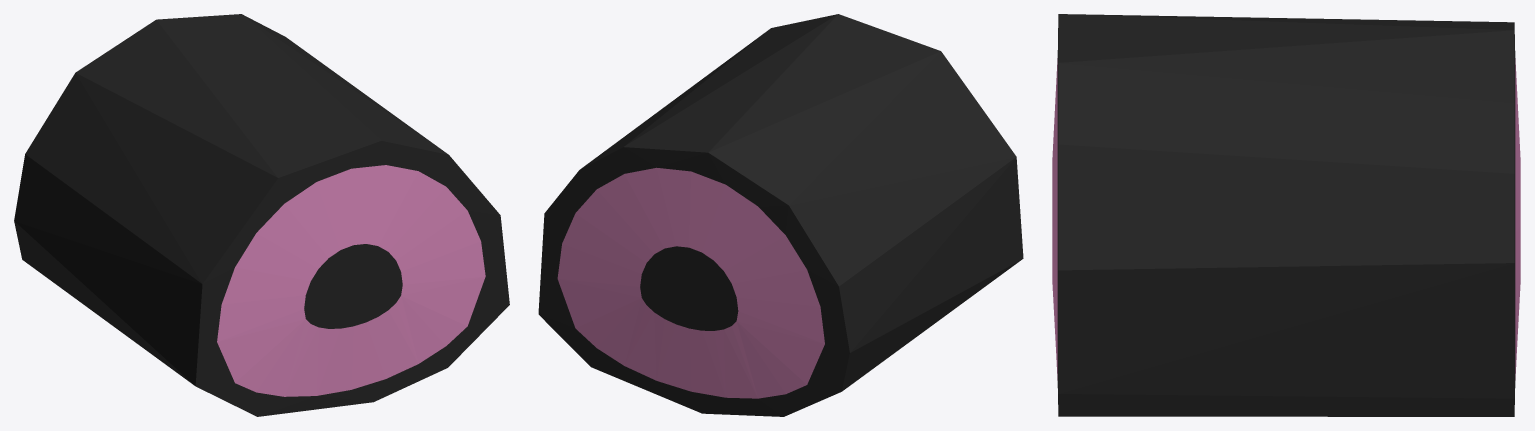
Rendered from Licorice.fbx.
3 renders of one model, left to right at view 1: azimuth 30°, elevation 25°; view 2: azimuth 150°, elevation 25°; view 3: azimuth 270°, elevation 25°, orthographic. The views are drawn at different scales.
Visible parts, largest first — view 1: Cube; view 2: Cube; view 3: Cube.
Part boxes in pixels (bbox=[...]): Cube: bbox=[14, 14, 509, 416]; Cube: bbox=[538, 14, 1023, 416]; Cube: bbox=[1052, 14, 1520, 416].
Bounding box in the file's own units: 200 × 158 × 199.
